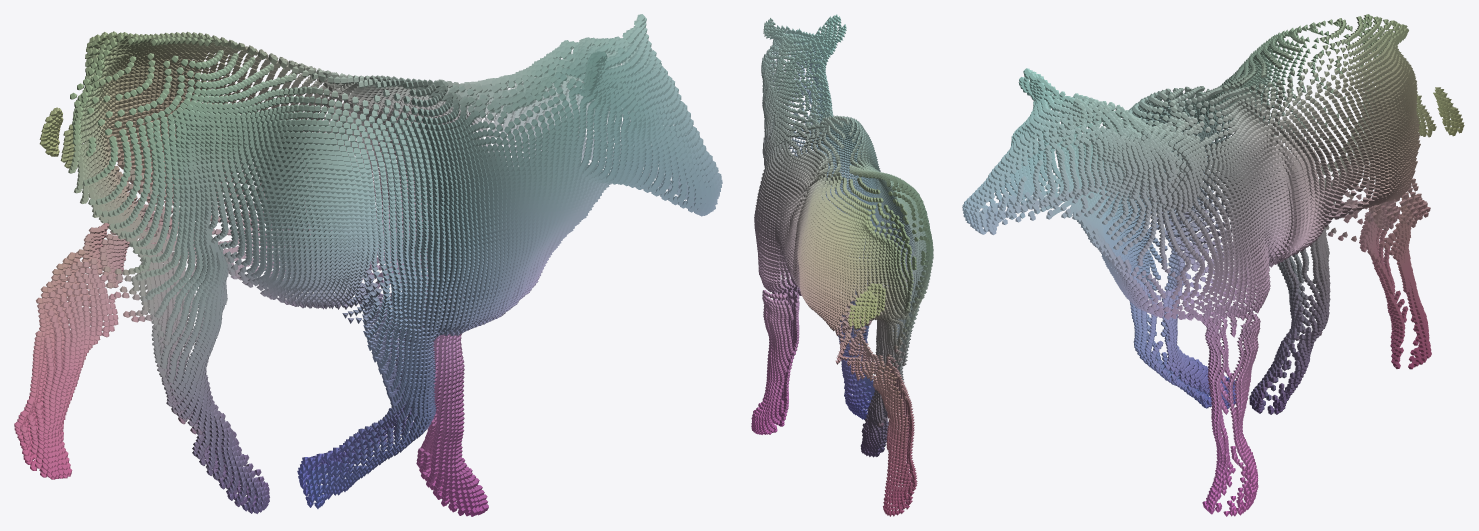
File: 2009_004171_1_pcan.glb
3 views of the same model, side by side, from view 1: azimuth 30°, elevation 25°; view 2: azimuth 150°, elevation 25°; view 3: azimuth 270°, elevation 25° (orthographic). The views are drawn at different scales.
Parts seen in each view (by area): view 1: target; view 2: target; view 3: target.
Boxes of the visible parts, bbox=[...] form: target: bbox=[14, 14, 722, 516]; target: bbox=[751, 14, 933, 516]; target: bbox=[962, 14, 1464, 516].
Size of the model in its own units: 1.82 by 2.12 by 2.14.
